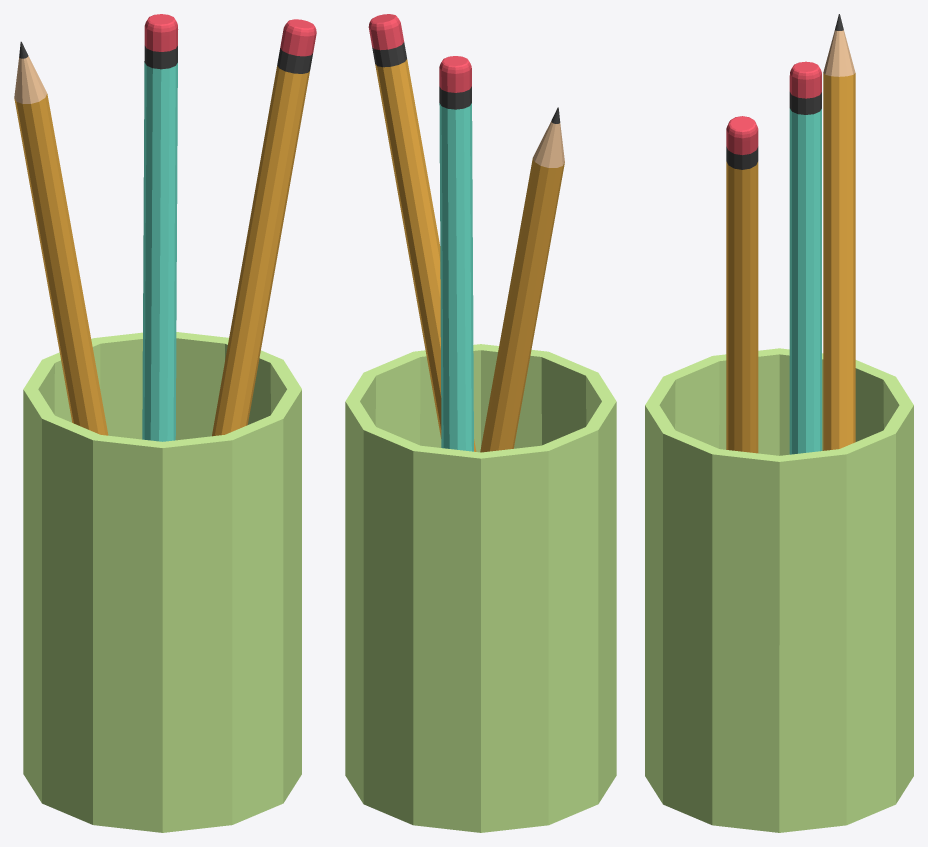
File: pencil-holder-and-pens.fbx
The picture shows the model from 3 angles, left to right: view 1: azimuth 30°, elevation 25°; view 2: azimuth 150°, elevation 25°; view 3: azimuth 270°, elevation 25°; orthographic projection. The views are drawn at different scales.
Parts seen in each view (by area): view 1: Cylinder.003, Cylinder.004, Cylinder.001, Cylinder.002; view 2: Cylinder.003, Cylinder.004, Cylinder.001, Cylinder.002; view 3: Cylinder.003, Cylinder.002, Cylinder.004, Cylinder.001.
Part boxes in pixels (x1,y1,x2,y2): Cylinder.003: (23, 332, 301, 832); Cylinder.004: (142, 14, 178, 441); Cylinder.001: (212, 19, 316, 436); Cylinder.002: (14, 41, 108, 435); Cylinder.003: (345, 344, 616, 832); Cylinder.004: (439, 56, 473, 451); Cylinder.001: (368, 14, 476, 451); Cylinder.002: (480, 107, 564, 452); Cylinder.003: (645, 348, 913, 832); Cylinder.002: (823, 14, 855, 450); Cylinder.004: (789, 61, 821, 454); Cylinder.001: (726, 116, 758, 453).
Size of the model in its own units: 58.37 by 163 by 55.67.
